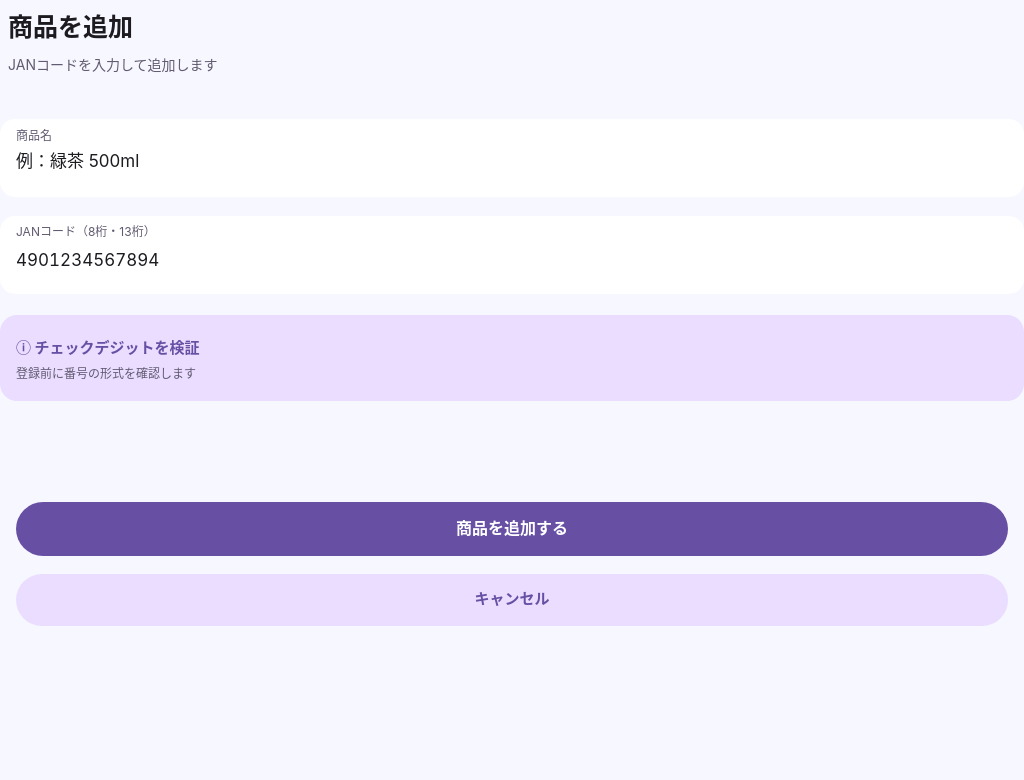
Test: ManualAddForm › 桁数不足は追加せずエラーを表示する
The width and height of the screenshot is (1024, 780).
Type "1234567" into the field labelled "JANコード（8桁・13桁）" at x=512, y=260, box [16,239,1008,281]
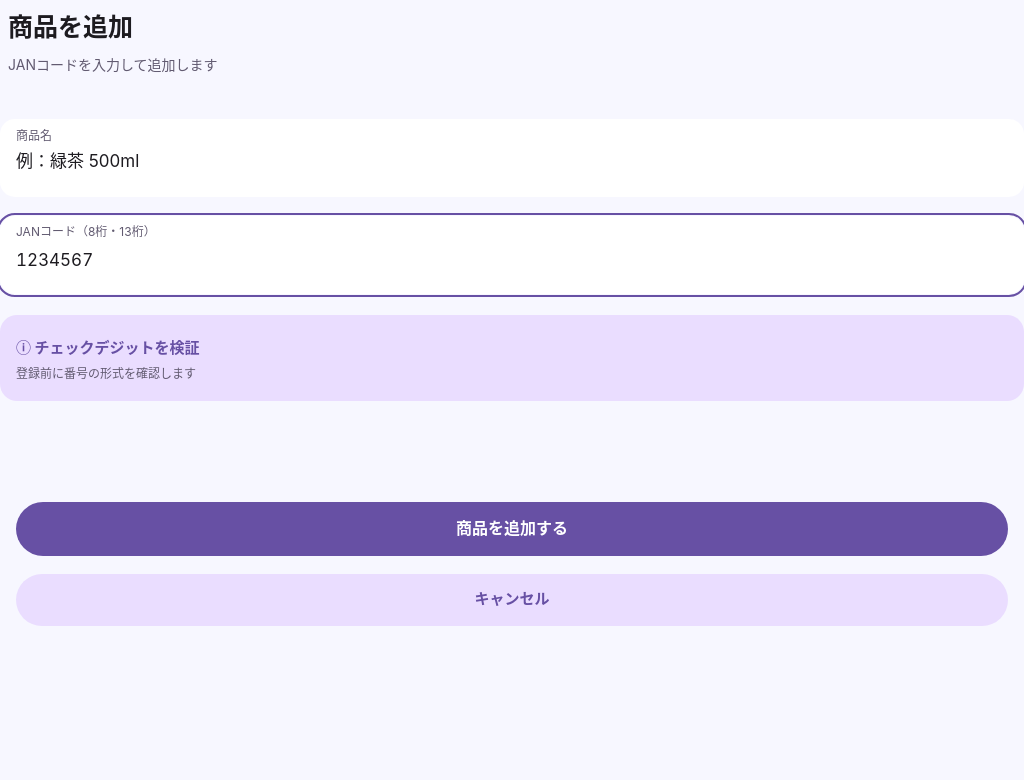
Click the button "商品を追加する" at x=512, y=529, box [16,502,1008,556]
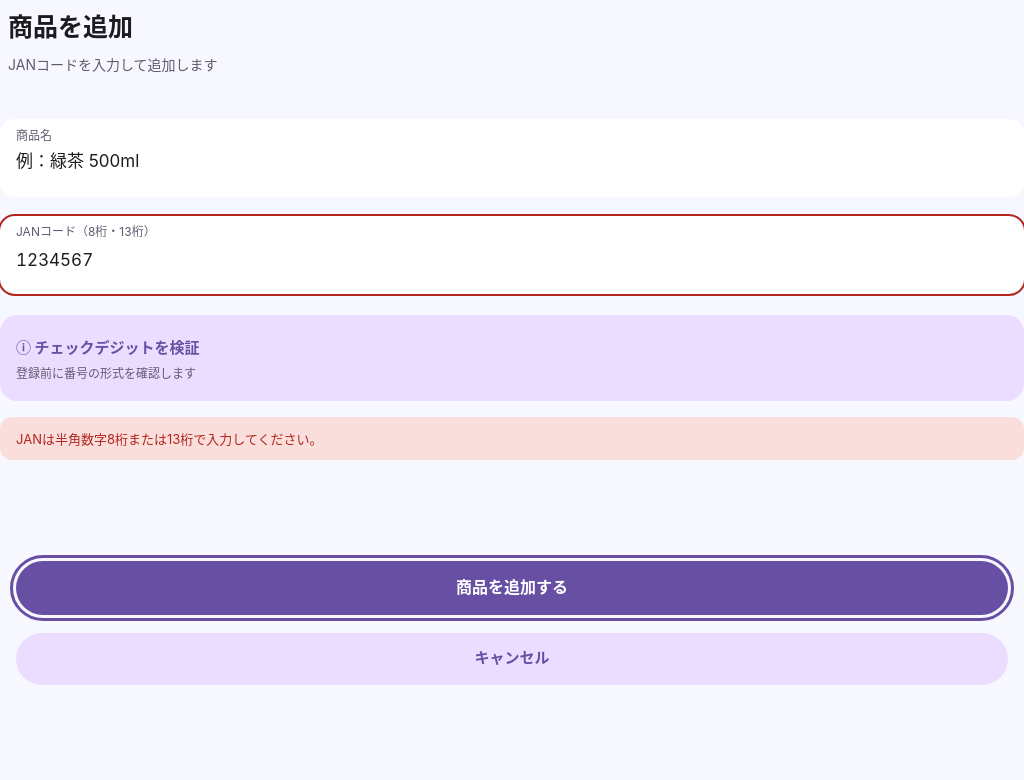
Expected: the message shows "8桁または13桁", [16,431,322,447]
